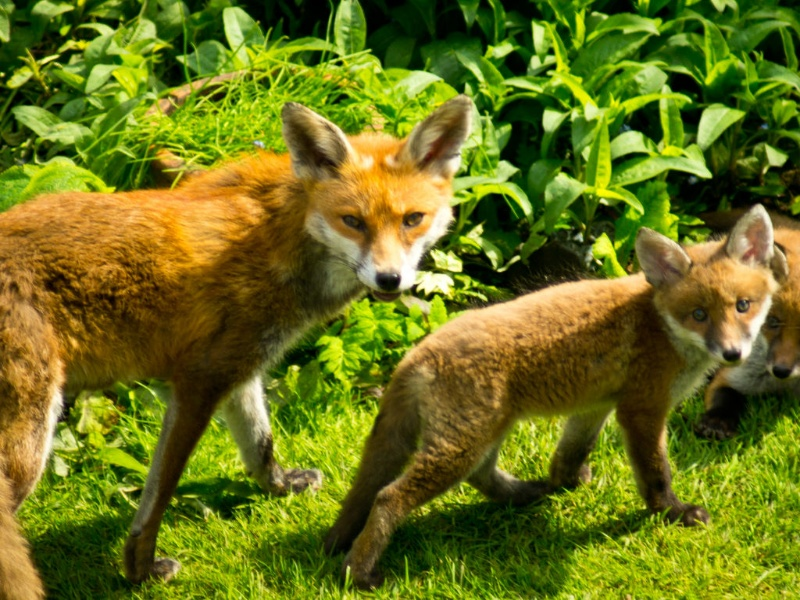fox: (1, 91, 478, 594), (325, 200, 780, 583)
